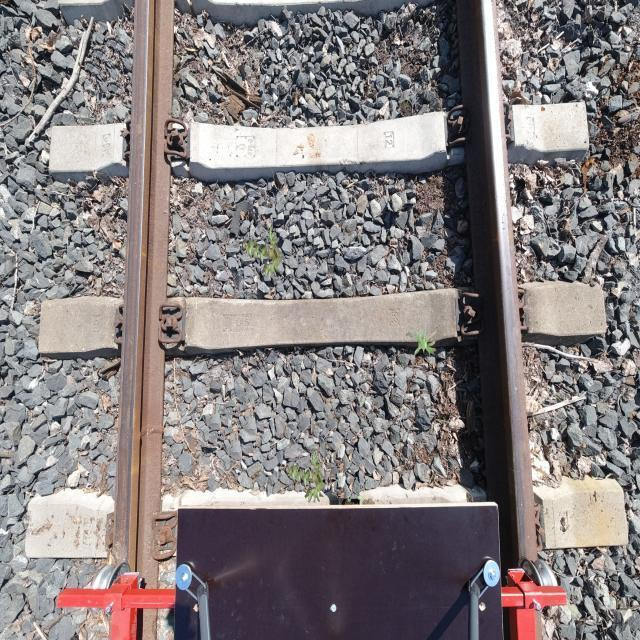Plant: (242, 225, 284, 279), (285, 449, 326, 503), (406, 322, 438, 356)
